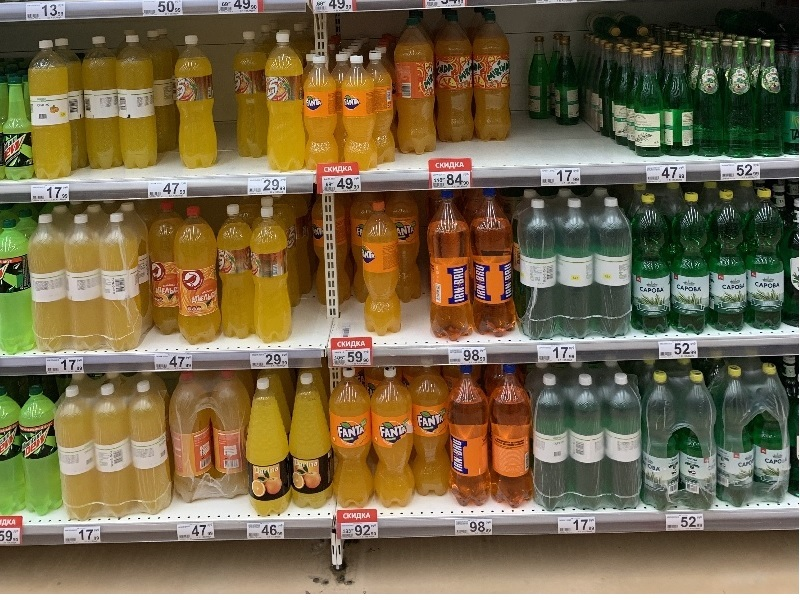lemonade: (322, 365, 384, 509), (422, 189, 476, 341), (256, 32, 311, 172), (468, 186, 518, 340), (167, 34, 224, 168), (443, 366, 494, 513), (487, 367, 539, 510), (246, 204, 297, 349), (173, 205, 224, 350), (244, 377, 295, 519), (15, 385, 68, 519), (370, 367, 418, 514), (286, 372, 336, 513), (25, 40, 75, 178), (110, 35, 161, 170), (746, 184, 790, 338), (392, 18, 439, 158), (431, 10, 479, 147), (707, 188, 752, 334), (469, 9, 515, 146), (669, 191, 712, 336), (407, 363, 454, 495), (360, 197, 403, 337), (216, 203, 259, 340), (628, 193, 669, 334), (337, 54, 379, 166), (302, 53, 341, 164)
